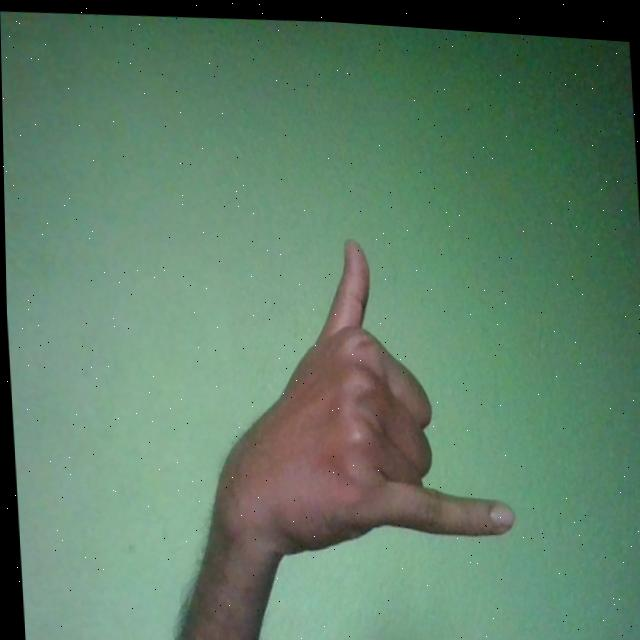Call Me: (194, 220, 515, 566)
